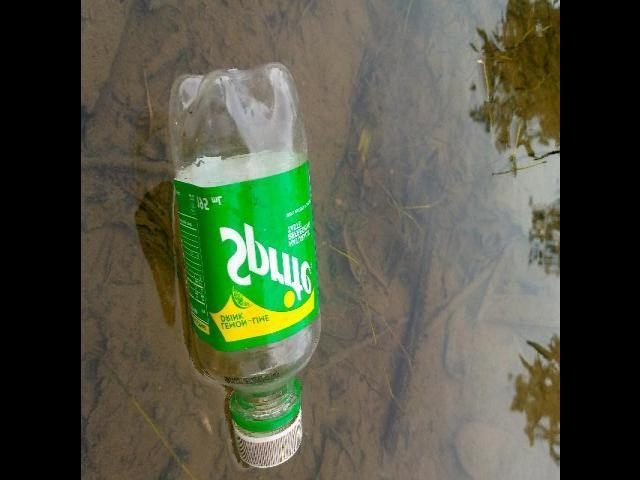Bottle: (158, 54, 326, 478)
